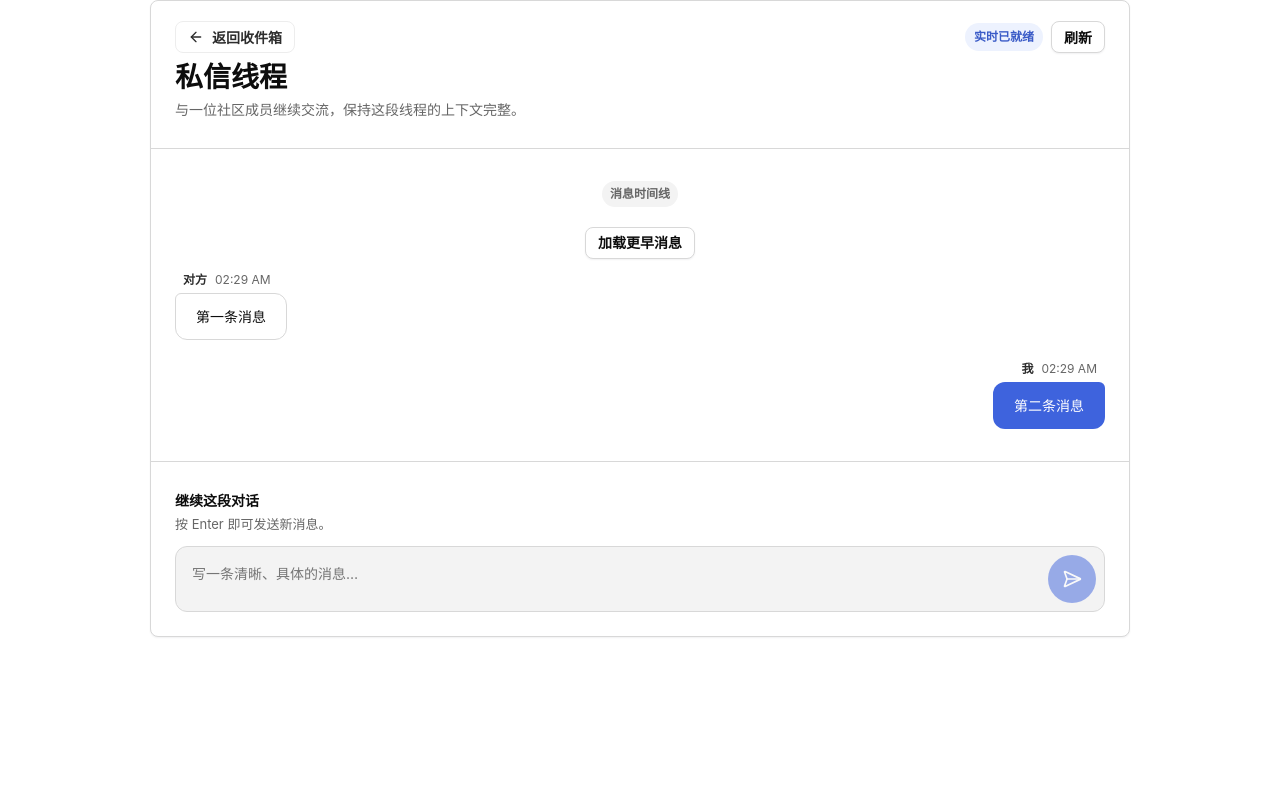
Test: ConversationDetailView › keeps a single bubble when the committed frame arrives before the server echo
This screenshot has width=1280, height=800.
Type "回执先到的消息" into the text box with placeholder "写一条清晰、具体的消息…". click: {"x": 612, "y": 579}
box: [184,555,1040,603]
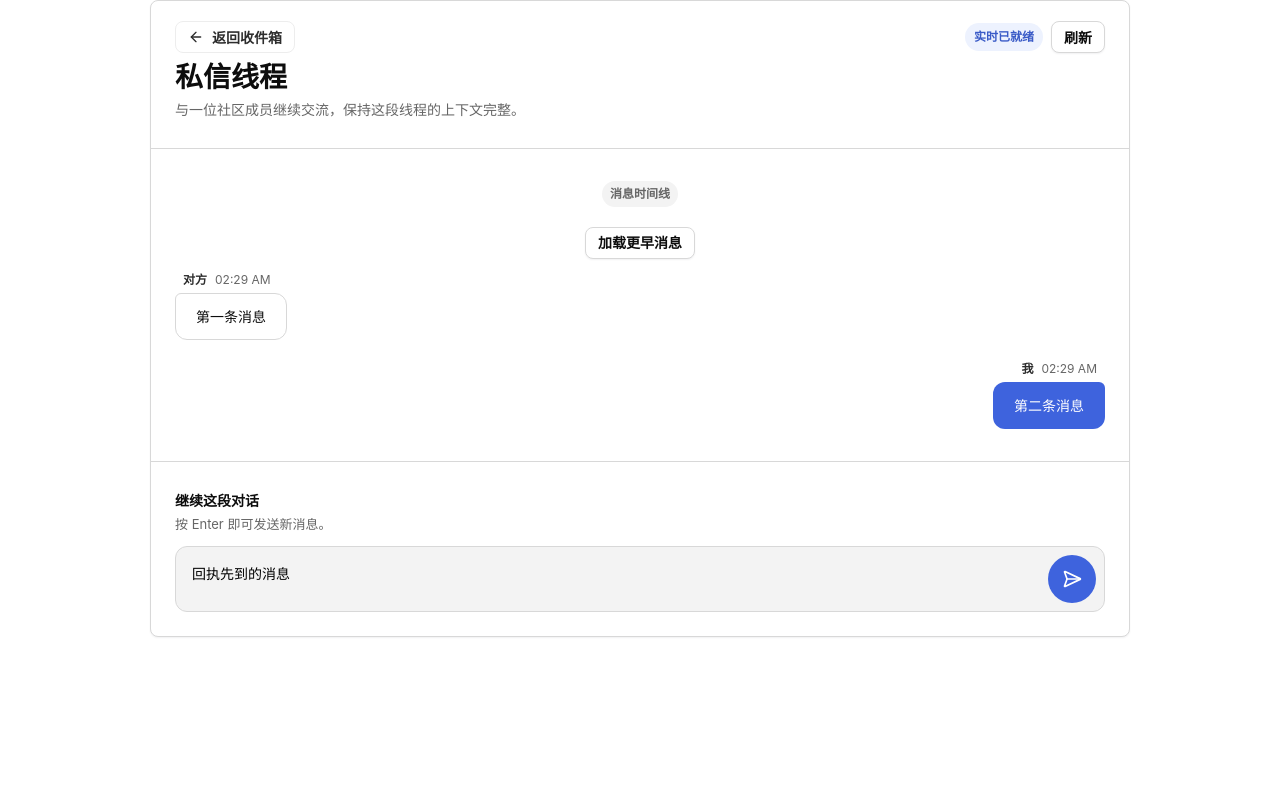
Click the button named "发送消息". click: {"x": 1072, "y": 579}
box: [1048,555,1096,603]
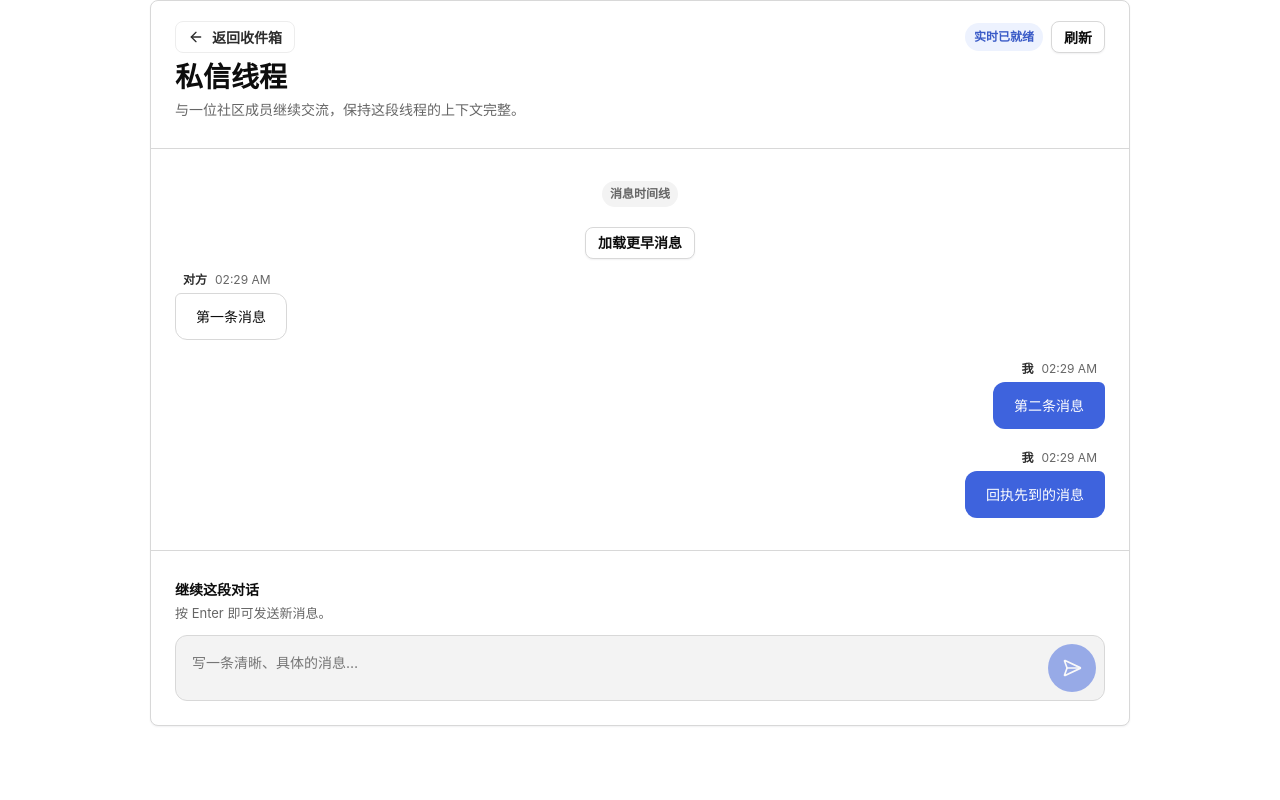
Expected: the number of elements with class "message-row" is 3, [175,271,287,340]; [993,360,1105,429]; [965,449,1105,518]
Expected: the text "回执先到的消息" is shown, [965,471,1105,518]
